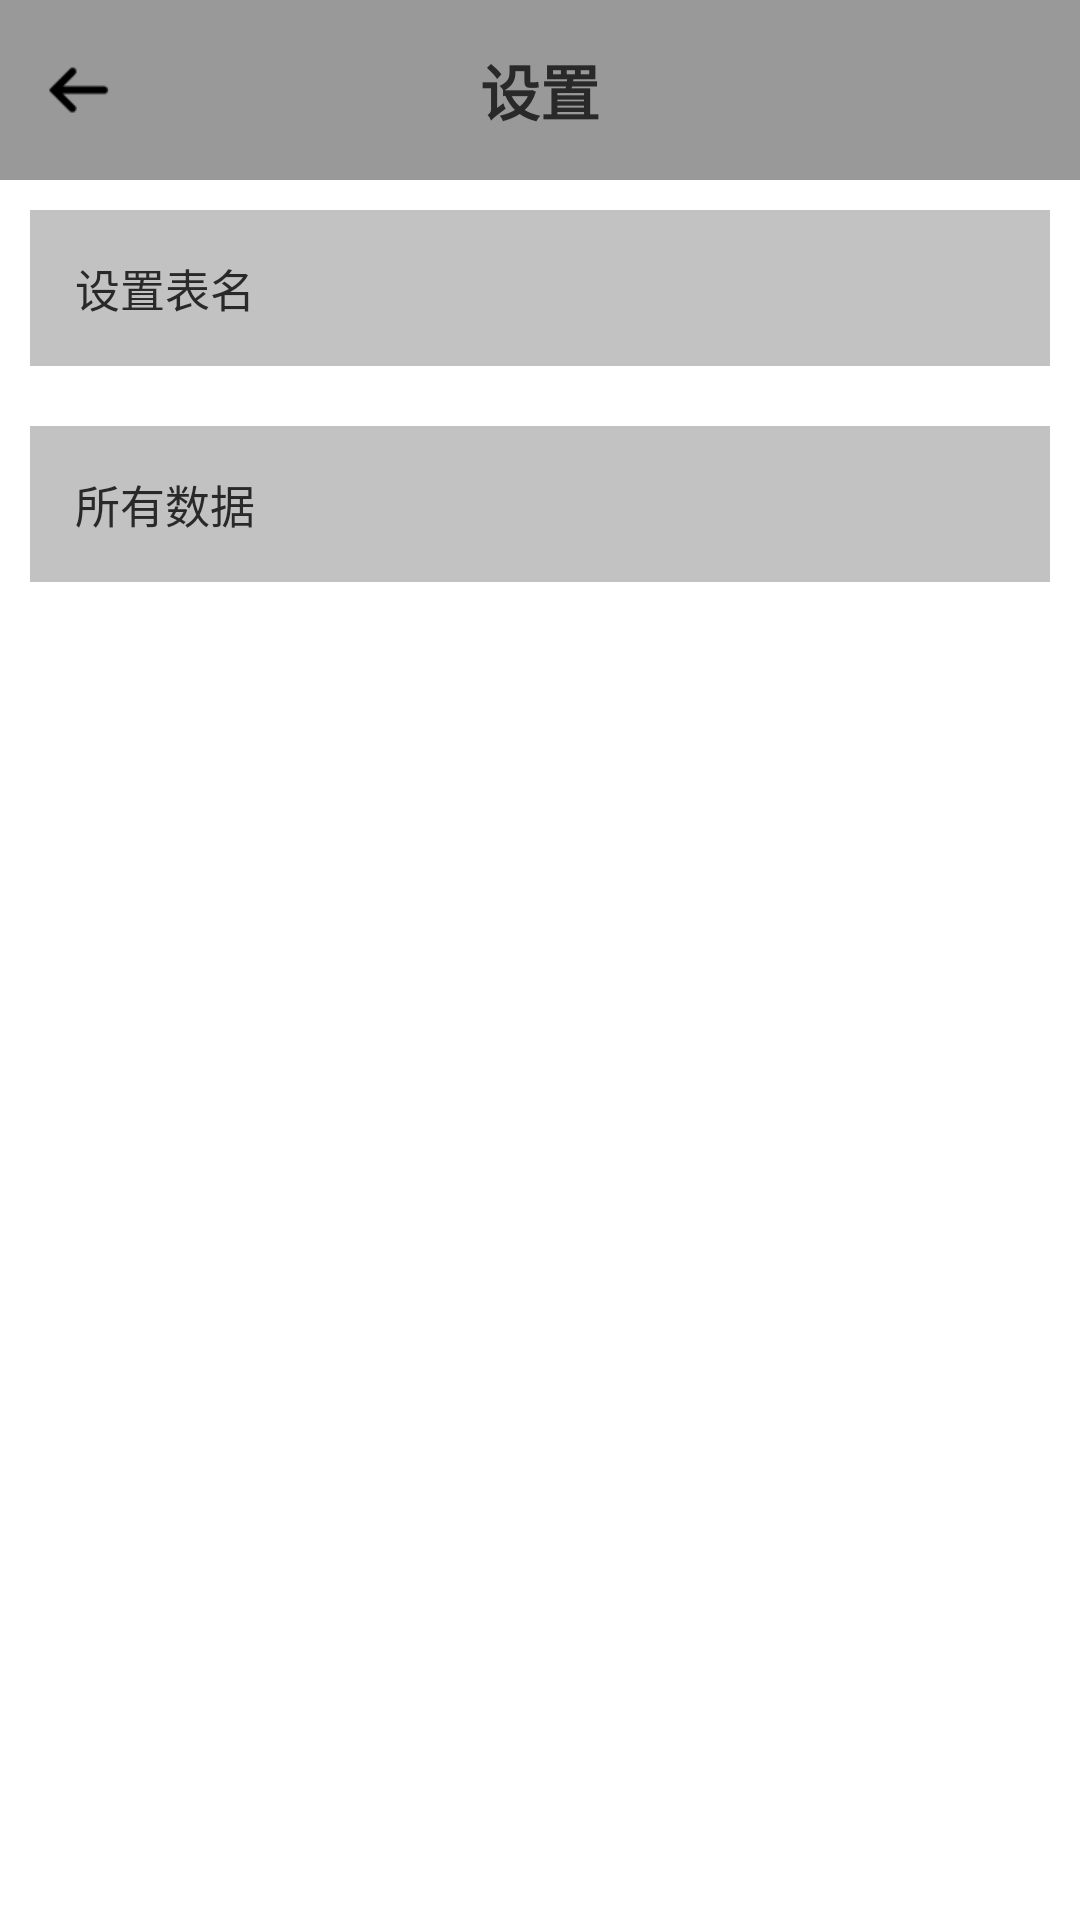

Named icons in this screenshot (1080x1920) and their bounding boxes, Rect(x1, y1, x2, y2):
back: Rect(49, 67, 108, 113)
